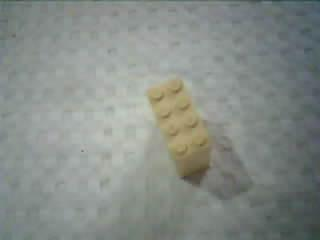lego: (143, 76, 214, 179)
